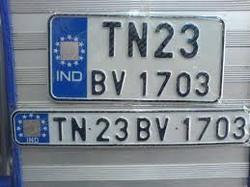number_plate: (47, 12, 225, 104), (9, 108, 250, 147)
